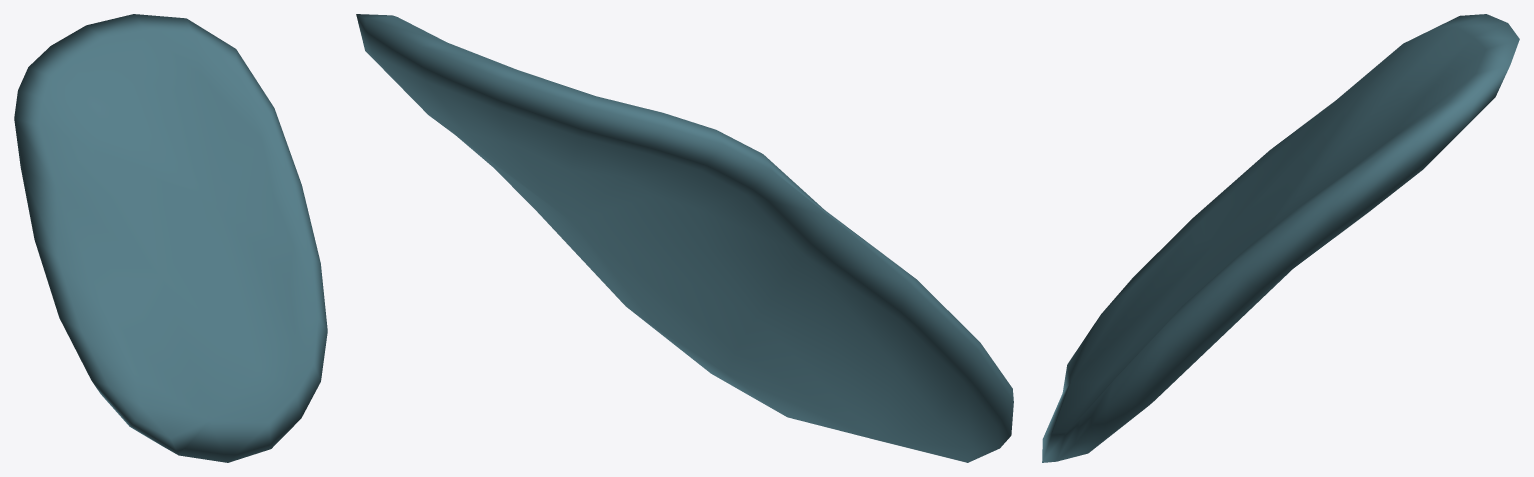
File: Extensor_digitorum-middle_phalanx-4th_finger.r_Generated_Mesh_F.glb
3 renders of one model, left to right at view 1: azimuth 30°, elevation 25°; view 2: azimuth 150°, elevation 25°; view 3: azimuth 270°, elevation 25°, orthographic. The views are drawn at different scales.
Visible parts, largest first — view 1: Extensor_digitorum-middle_phalanx-4th_finger.r_Generated_Mes; view 2: Extensor_digitorum-middle_phalanx-4th_finger.r_Generated_Mes; view 3: Extensor_digitorum-middle_phalanx-4th_finger.r_Generated_Mes.
Boxes of the visible parts, x1,y1,x2,y2 form: Extensor_digitorum-middle_phalanx-4th_finger.r_Generated_Mes: (14, 14, 327, 462); Extensor_digitorum-middle_phalanx-4th_finger.r_Generated_Mes: (356, 14, 1013, 462); Extensor_digitorum-middle_phalanx-4th_finger.r_Generated_Mes: (1042, 14, 1519, 462).
Bounding box in the file's own units: 0.00431 × 0.00498 × 0.00508.
